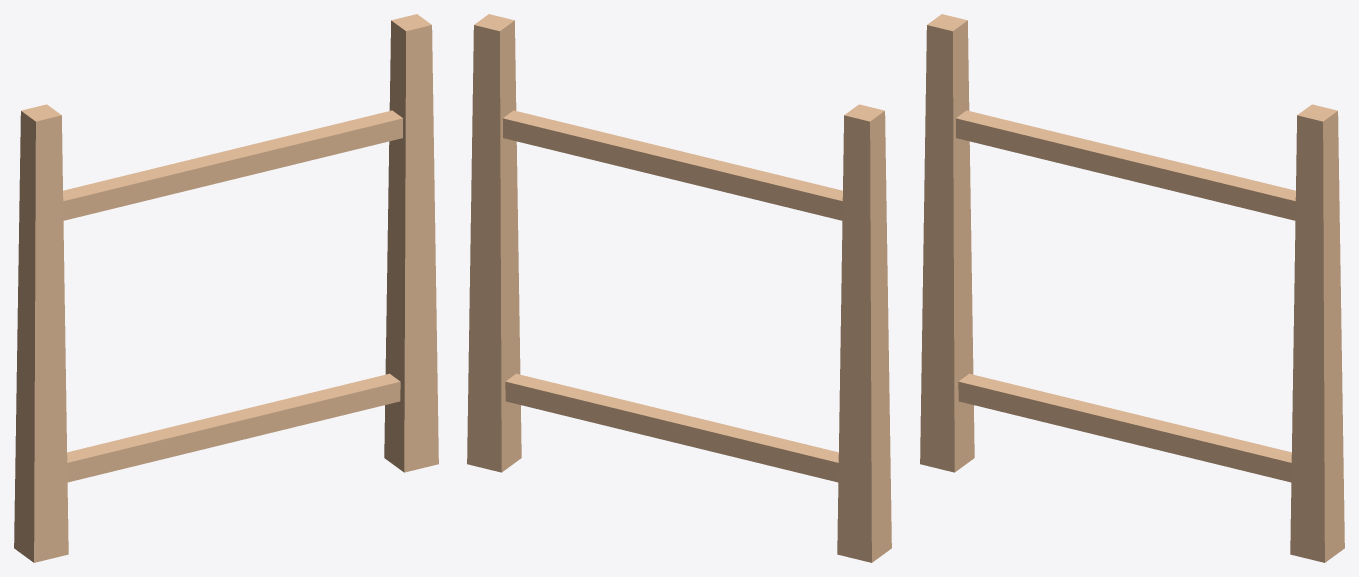
The model's file is fence.glb.
3 views of the same model, side by side, from view 1: azimuth 30°, elevation 25°; view 2: azimuth 150°, elevation 25°; view 3: azimuth 330°, elevation 25° (orthographic).
Visible parts, largest first — view 1: fence; view 2: fence; view 3: fence.
Boxes of the visible parts, <box> form: fence: <box>14,14,438,562</box>; fence: <box>467,14,891,562</box>; fence: <box>920,14,1344,562</box>.
Bounding box in the file's own units: 2 × 2.07 × 0.1711.
